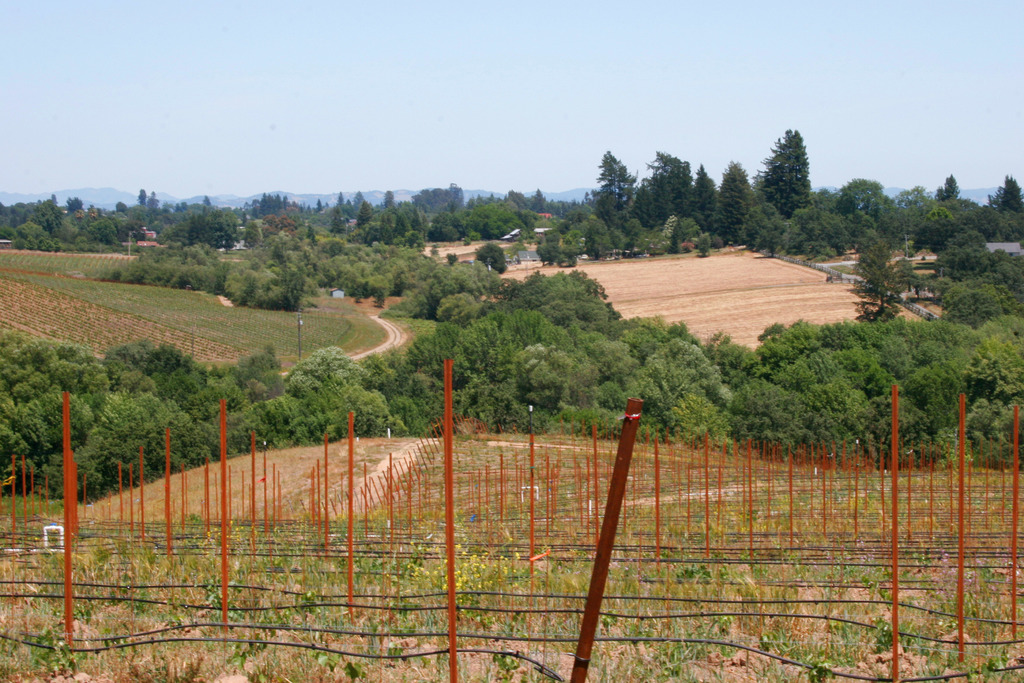Tree: (0, 127, 1024, 500)
